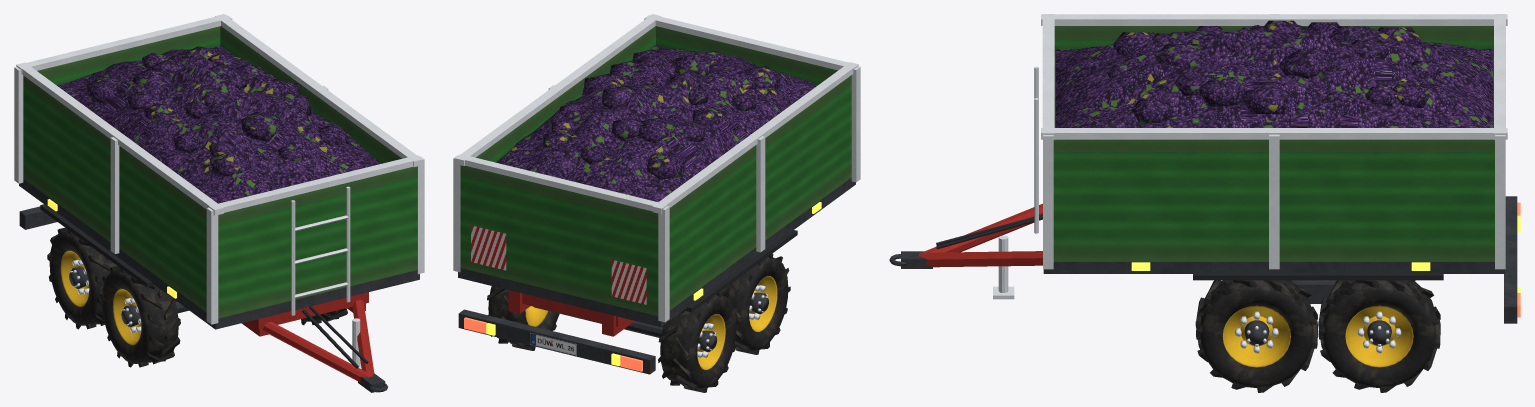
File: trailer.glb
3 views of the same model, side by side, from view 1: azimuth 30°, elevation 25°; view 2: azimuth 150°, elevation 25°; view 3: azimuth 270°, elevation 25° (orthographic). The views are drawn at different scales.
Visible parts, largest first — view 1: TrailerBody, Wheel_FR, Wheel_RR; view 2: TrailerBody, Wheel_RR, Wheel_FR, Wheel_RL; view 3: TrailerBody, Wheel_RL, Wheel_FL.
Boxes of the visible parts, box(x1,y1,x2,y2) form: TrailerBody: box(14, 14, 424, 392); Wheel_FR: box(99, 266, 180, 367); Wheel_RR: box(47, 227, 117, 329); TrailerBody: box(453, 14, 860, 374); Wheel_RR: box(658, 291, 738, 392); Wheel_FR: box(721, 253, 790, 354); Wheel_RL: box(487, 286, 559, 350); TrailerBody: box(889, 14, 1520, 323); Wheel_RL: box(1318, 280, 1440, 392); Wheel_FL: box(1195, 280, 1317, 392).
Size of the model in its own units: 2.18 by 2.49 by 4.73.
12 materials, 9 textured.
